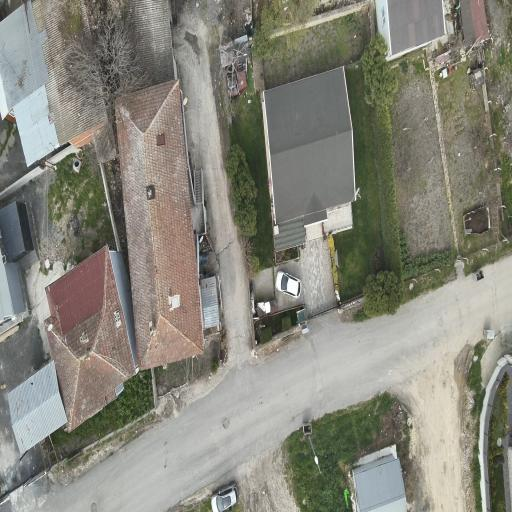car: (211, 483, 238, 511), (276, 271, 301, 298)
